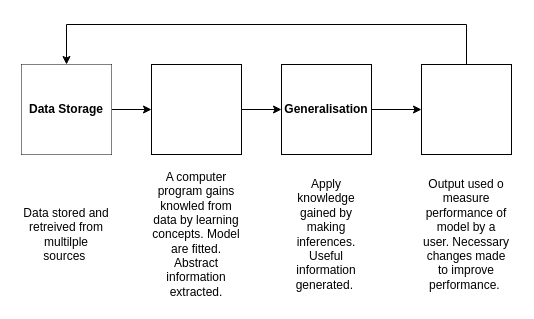
Some shapes in this 534 by 319 pixel diagram are drawn without their labels. The shapes that lost their labels are listed below. From the top down, each one's centre as x and y in pixels, then its label:
the point at 196,109: Abstraction
the point at 466,109: Evaluation
